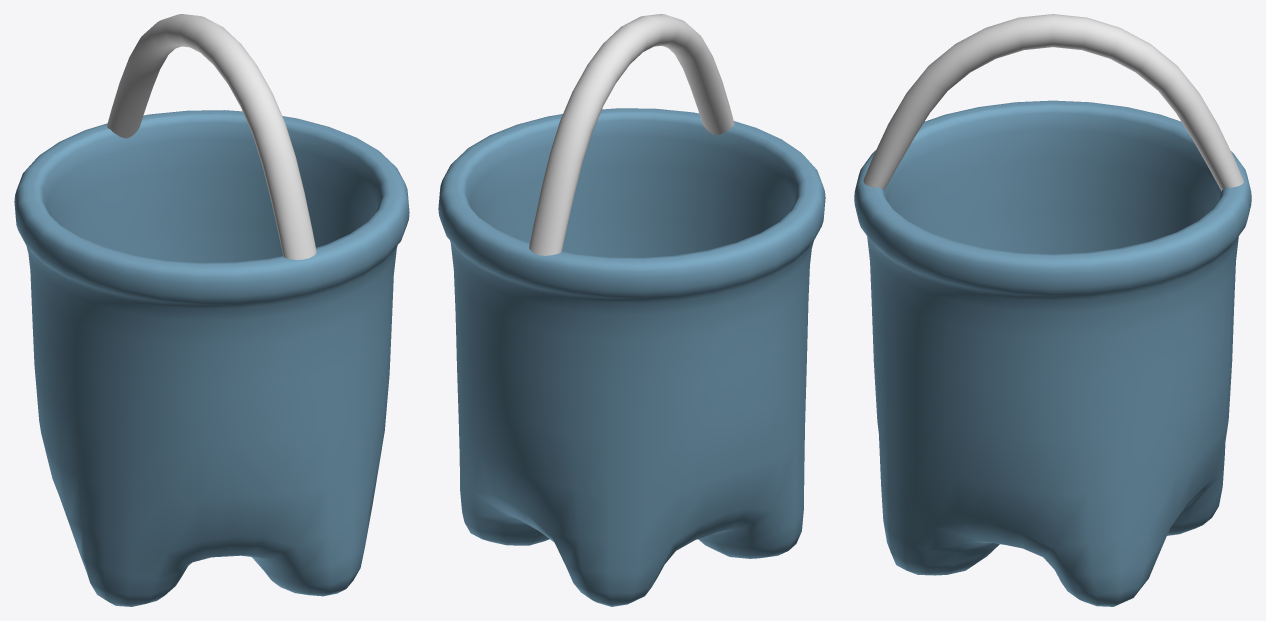
Rendered from Bucket.fbx.
3 views of the same model, side by side, from view 1: azimuth 30°, elevation 25°; view 2: azimuth 150°, elevation 25°; view 3: azimuth 270°, elevation 25° (orthographic). The views are drawn at different scales.
Parts seen in each view (by area): view 1: Bucket1; view 2: Bucket1; view 3: Bucket1.
Boxes of the visible parts, x1,y1,x2,y2 form: Bucket1: (14, 14, 409, 606); Bucket1: (438, 14, 825, 606); Bucket1: (854, 14, 1251, 606).
Size of the model in its own units: 1.46 by 2.16 by 1.46.
